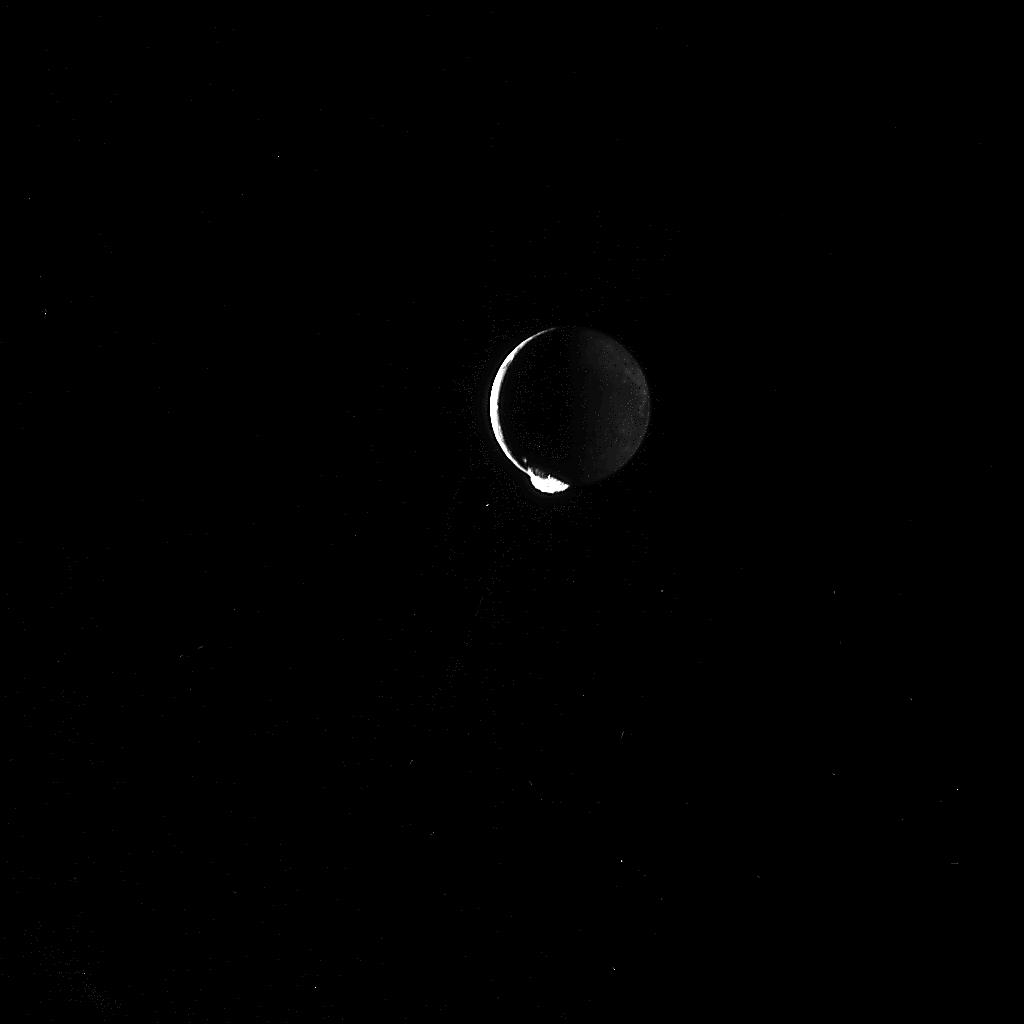plumes: (525, 470, 571, 496)
